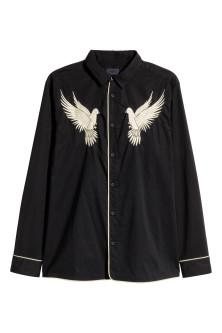teeshirt: (7, 47, 216, 284)
